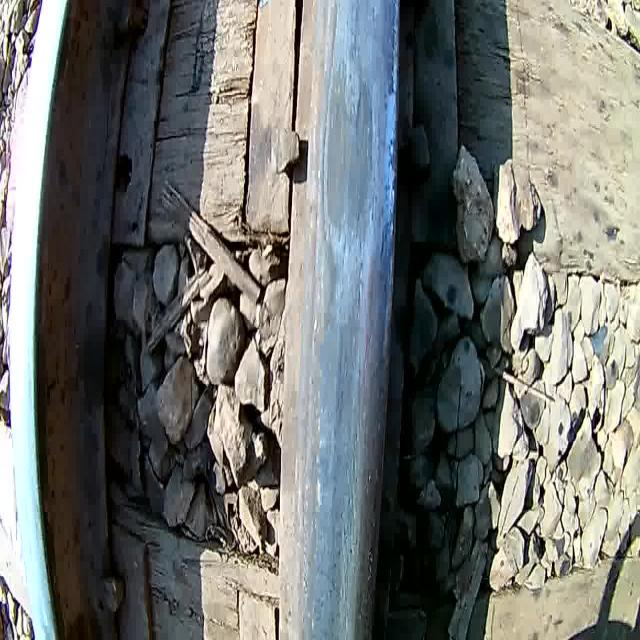Squats: (280, 0, 418, 640)
